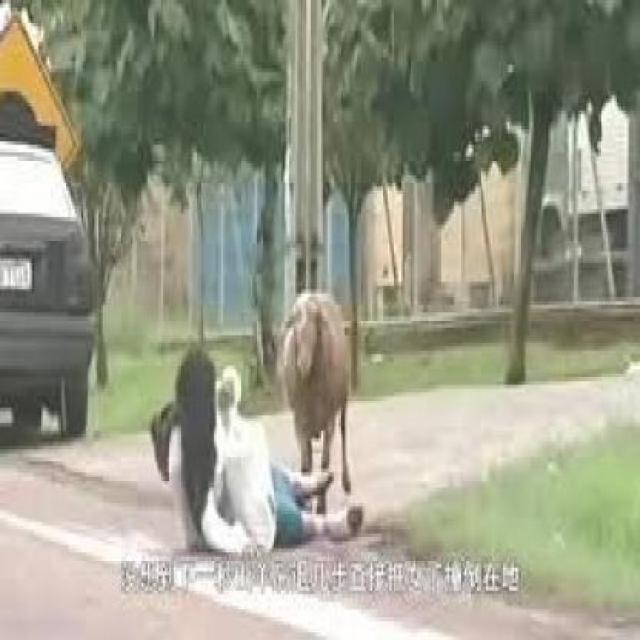fall: (135, 320, 368, 560)
